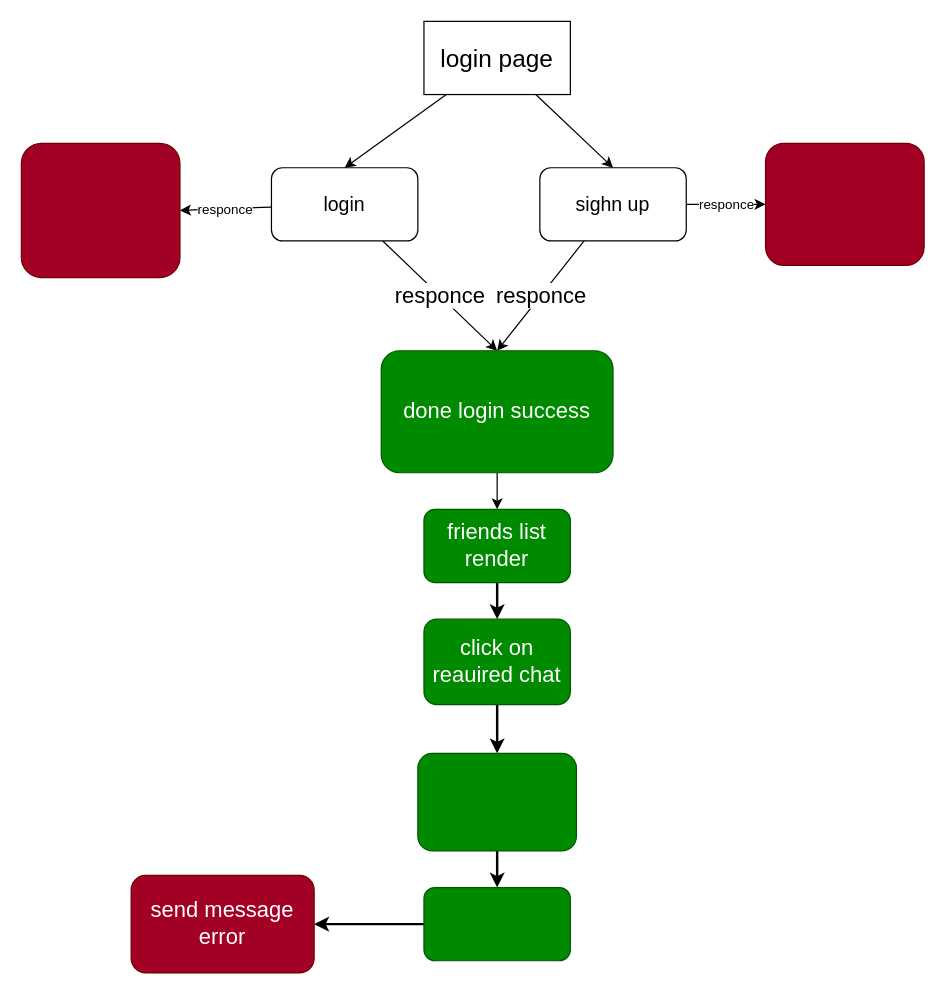
Some shapes in this 946 by 994 pixel diagram are drawn without their labels. The shapes that lost their labels are listed below. From the top down, each one's box as (x1, y1, x2, y2) in pixels, then its label:
(20, 142, 180, 278): user name or password incorrect
(764, 142, 924, 265): username already exist
(417, 752, 576, 851): get all chat messages
(423, 886, 570, 961): send messages
